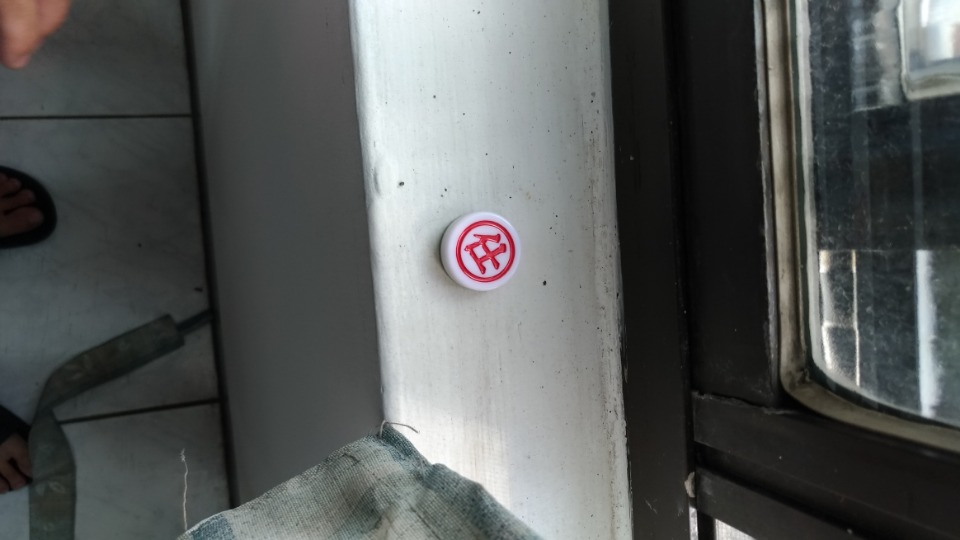r-advisor: (425, 207, 551, 308)
